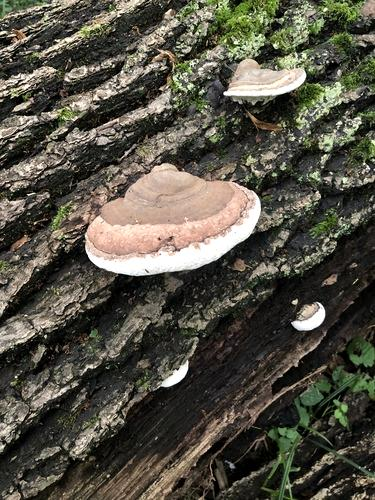Ganoderma - Fruit Body: (79, 162, 264, 279), (222, 57, 309, 104), (288, 299, 326, 332)
